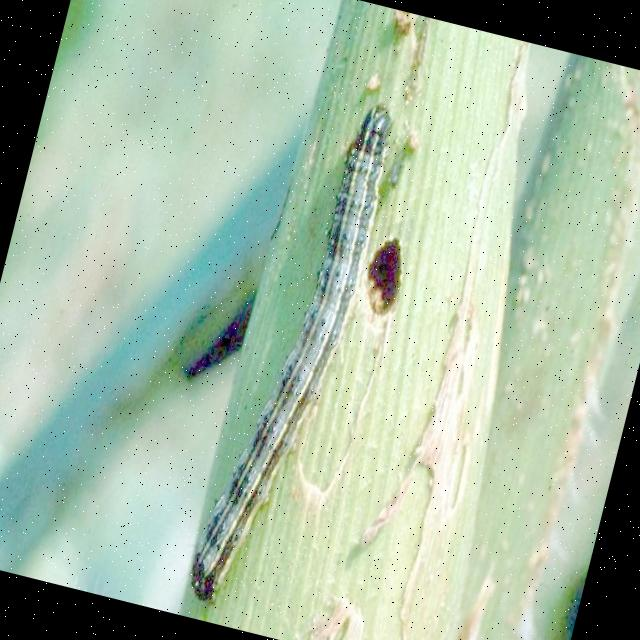worm: (184, 90, 405, 623)
